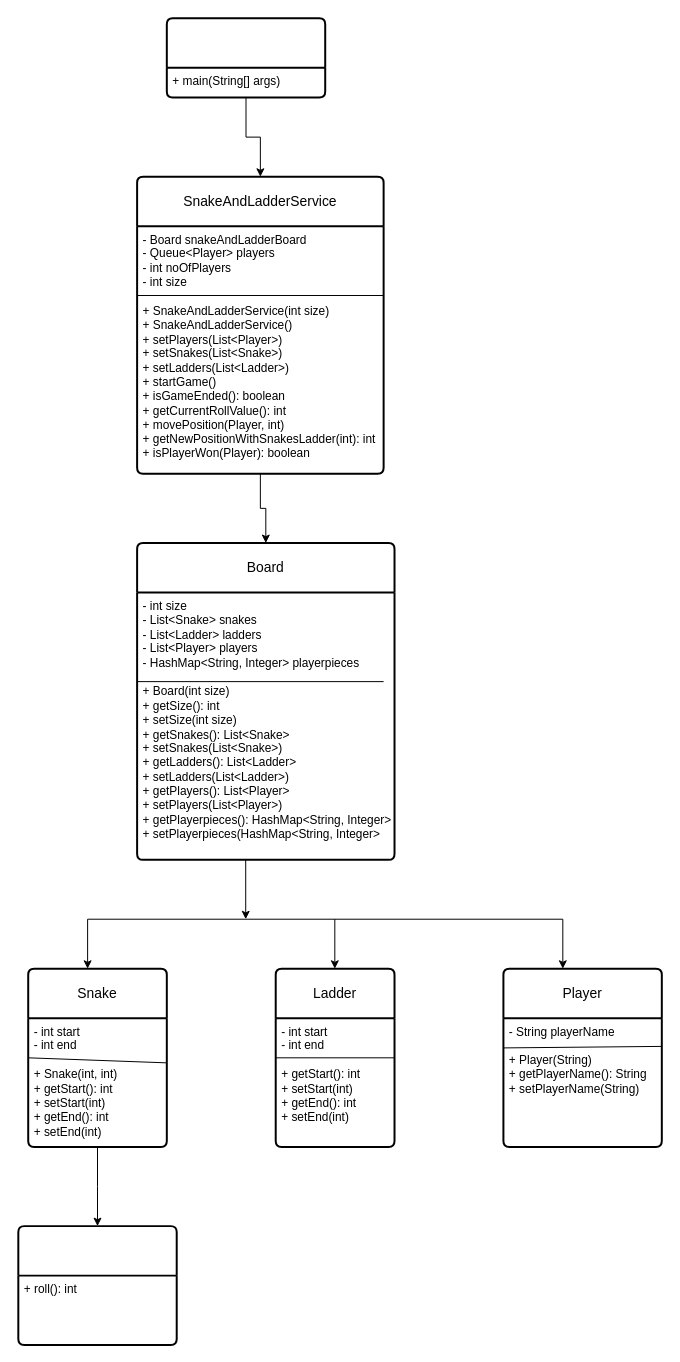
The diagram is 680 pixels wide and 1362 high, and some of its shapes have lost their labels. Here are the shapes that lost their labels. From the top down, the box of each, then its label:
(165, 17, 326, 98): MainApp
(17, 1225, 177, 1345): DiceService
